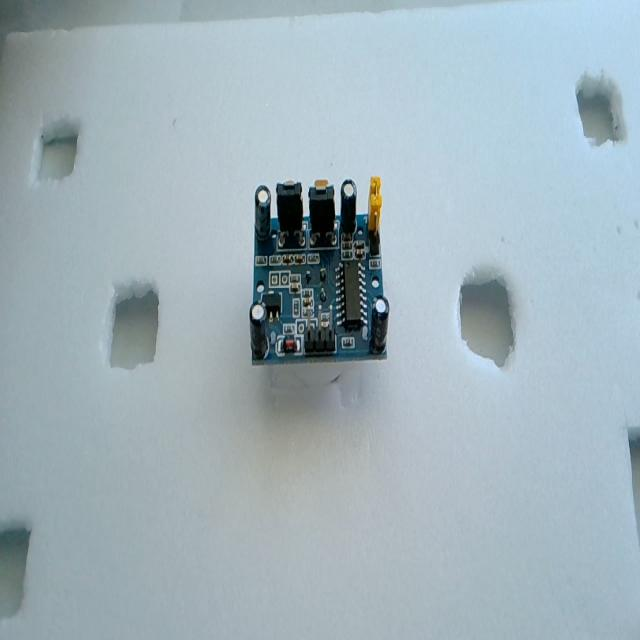Electrolytic capacitor: (369, 297, 389, 355), (254, 185, 272, 241), (340, 179, 358, 234), (250, 303, 268, 358)
IC: (338, 258, 365, 332)
pinheader: (303, 302, 338, 360)
